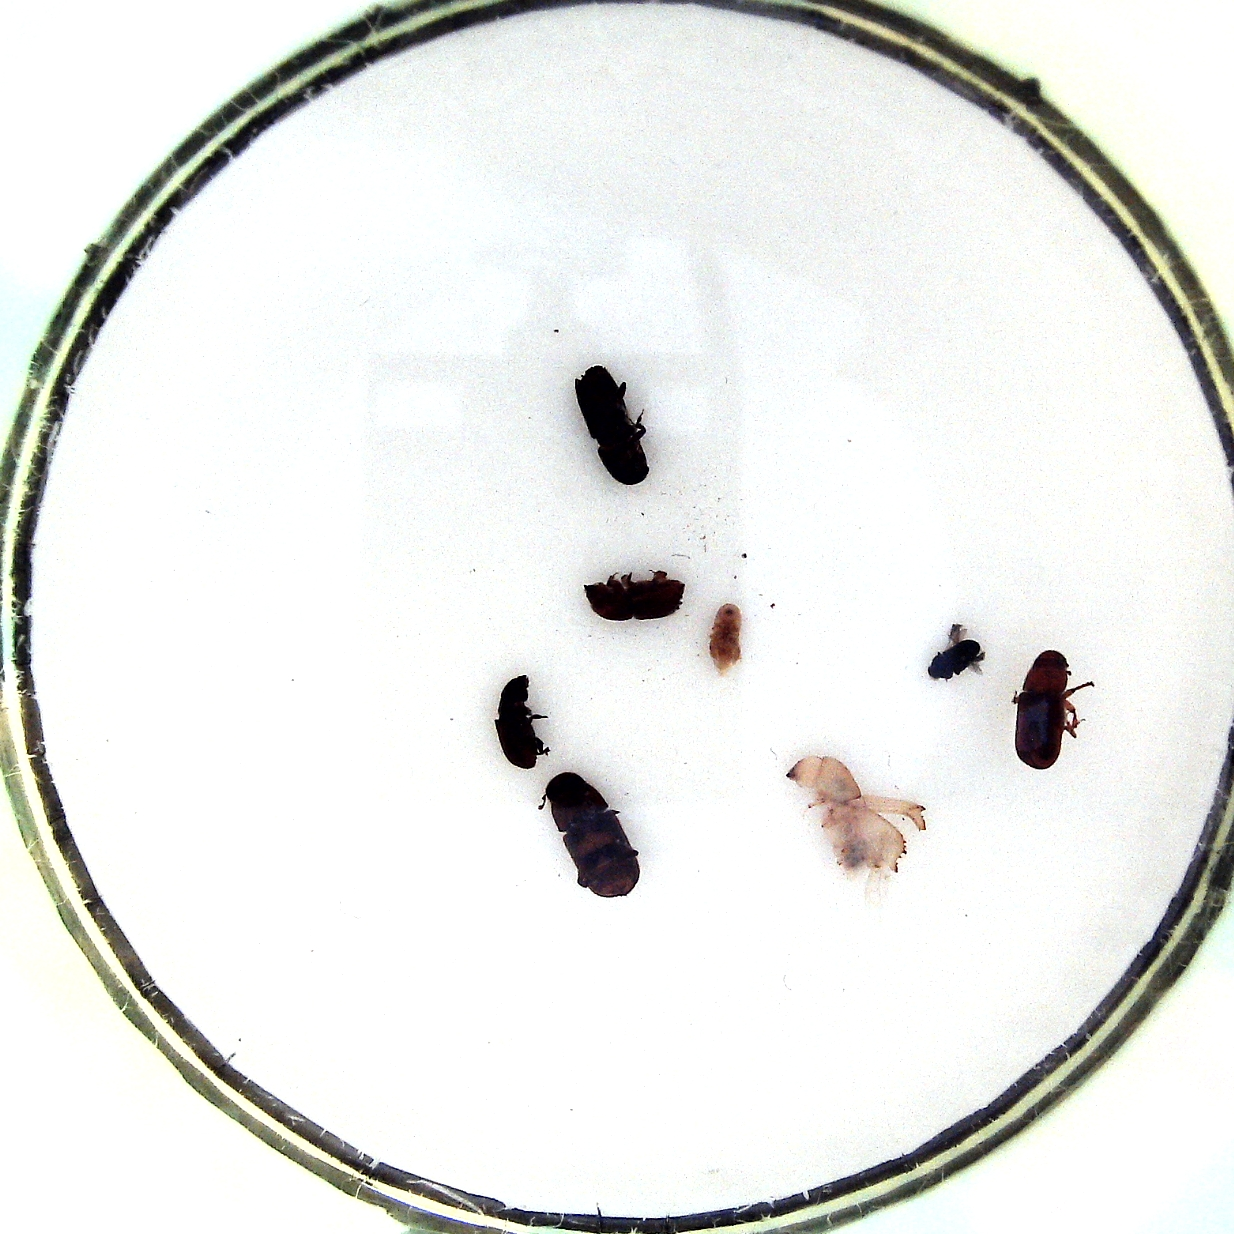Boerner: (784, 750, 930, 880), (571, 365, 648, 490)
Leconte: (537, 773, 640, 901), (1006, 646, 1096, 770)
Linnaeus: (576, 563, 688, 626)
acuminatus: (702, 603, 748, 680)
armandi: (489, 675, 551, 770)
coleoptera: (925, 622, 988, 686)
